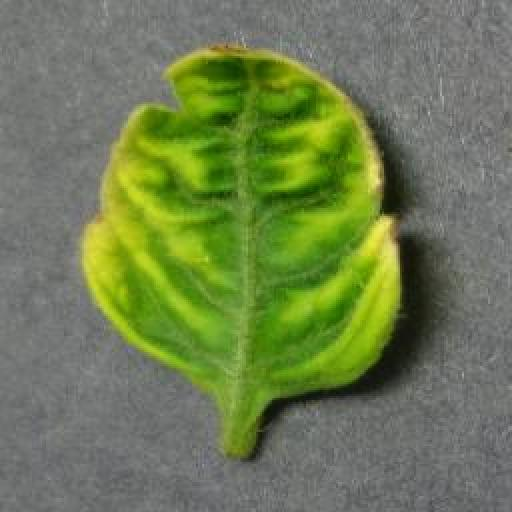disease_tomato: (78, 42, 406, 398)
